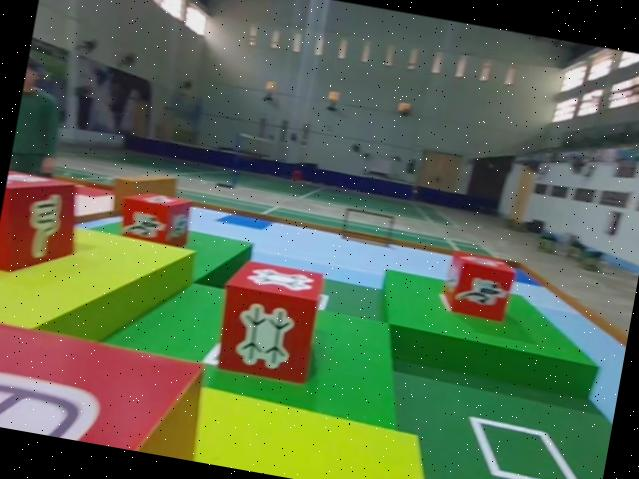R1: (436, 247, 519, 324), (111, 184, 196, 256)
R2 Fake: (0, 312, 206, 459), (0, 161, 83, 284)
R2 Real: (209, 252, 328, 388)
